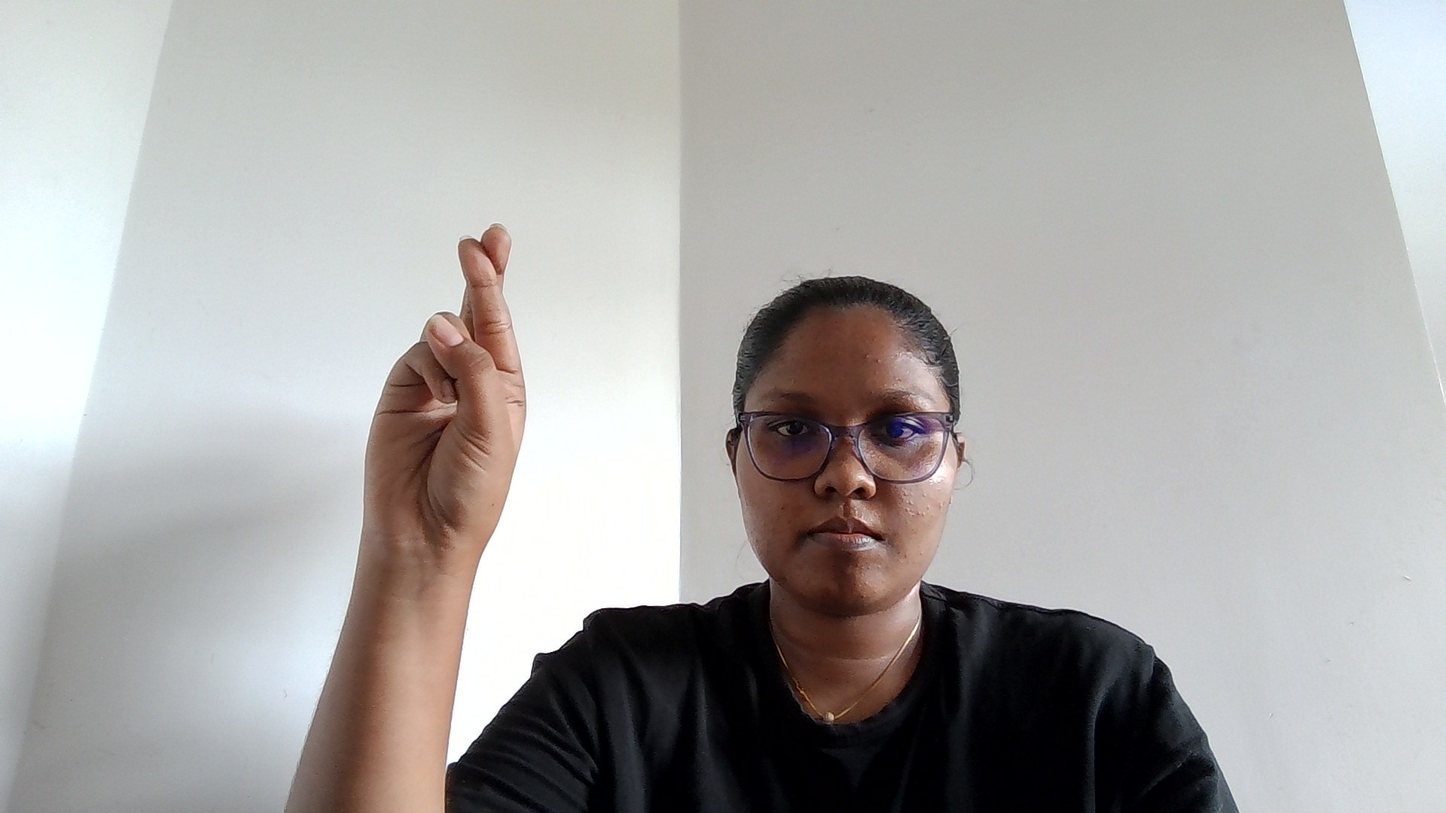Good_Luck: (200, 117, 610, 615)
